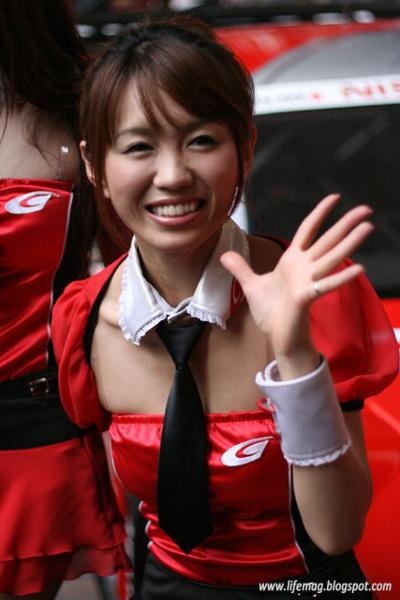person: (52, 26, 372, 600)
